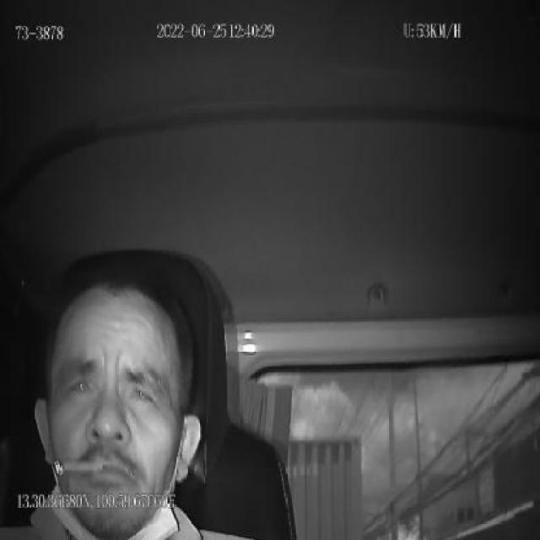smoking: (53, 458, 106, 479)
